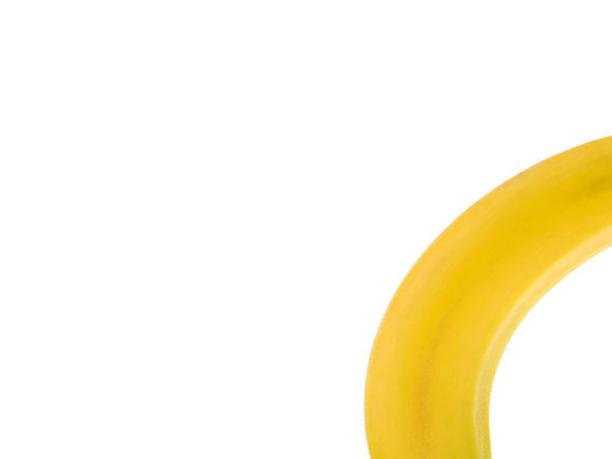banana: (362, 133, 611, 459)
